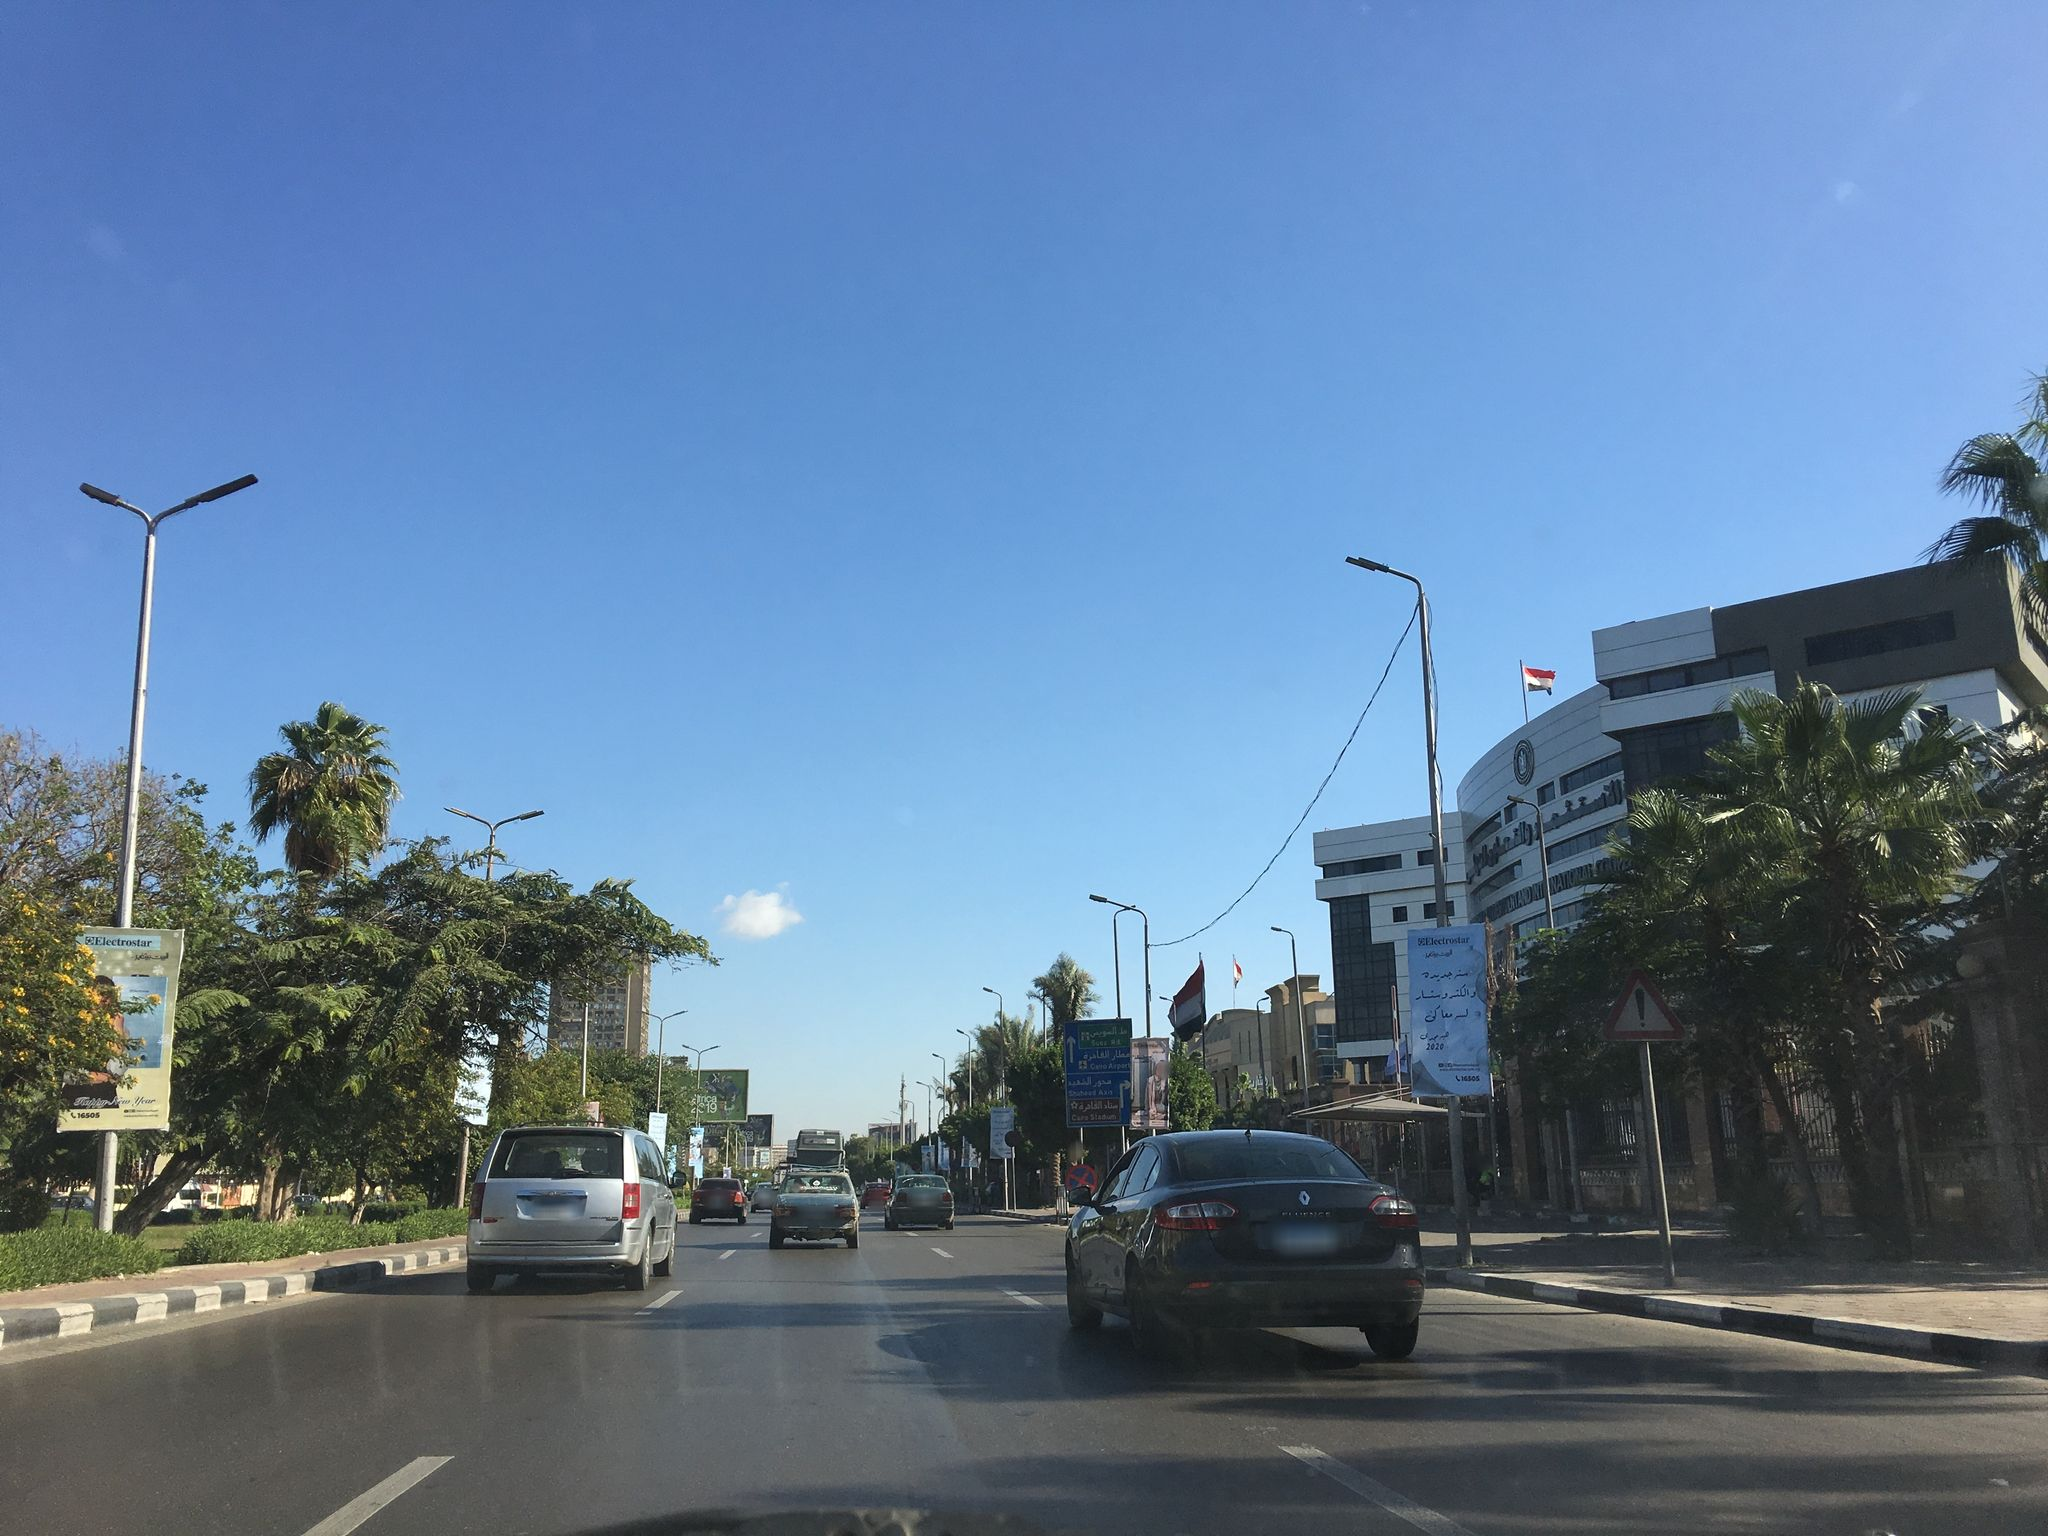car: (1059, 1128, 1426, 1362), (461, 1120, 687, 1286), (768, 1163, 860, 1249), (884, 1175, 955, 1228), (687, 1176, 747, 1225), (856, 1184, 892, 1210), (750, 1181, 777, 1212)
